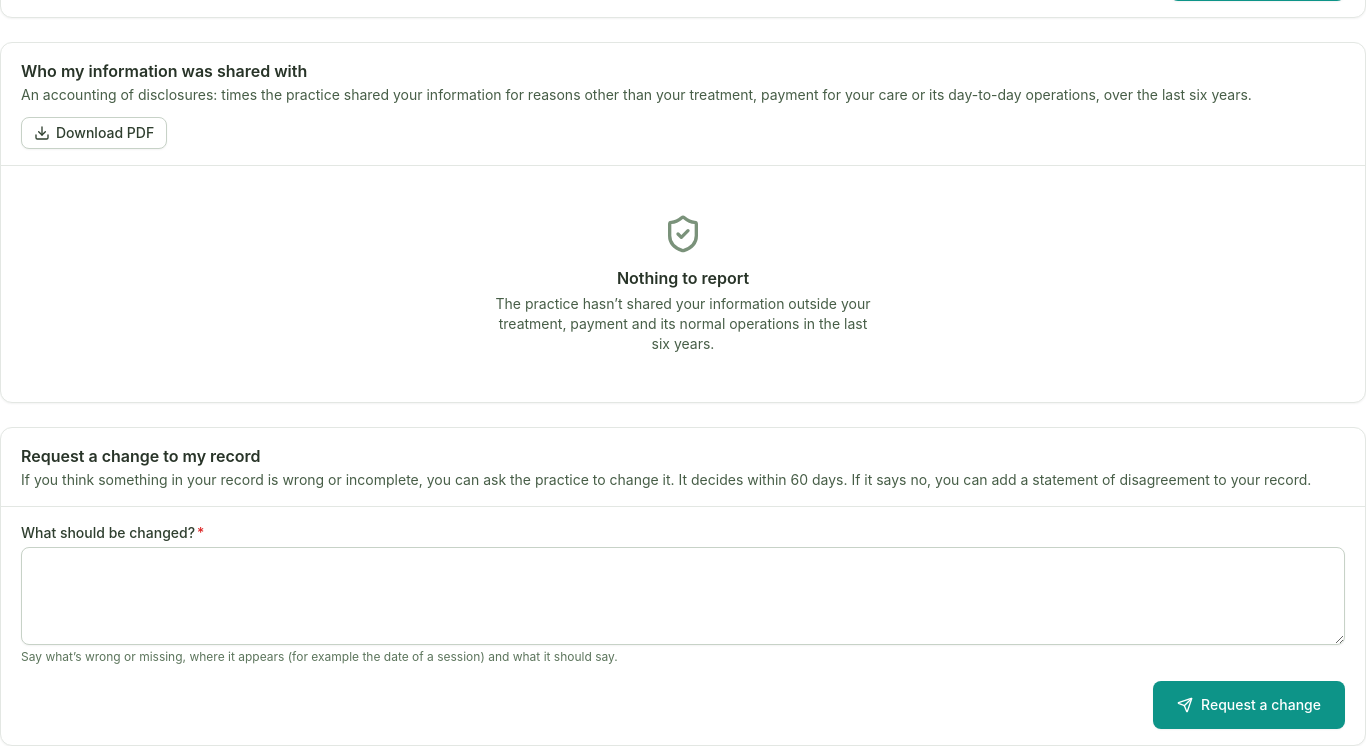
Test: ClientRecordsPage › amendments › sends a change request
(page scrolled)
Click the button "Request a change" at coordinates (1249, 705), box [1153,681,1345,729]
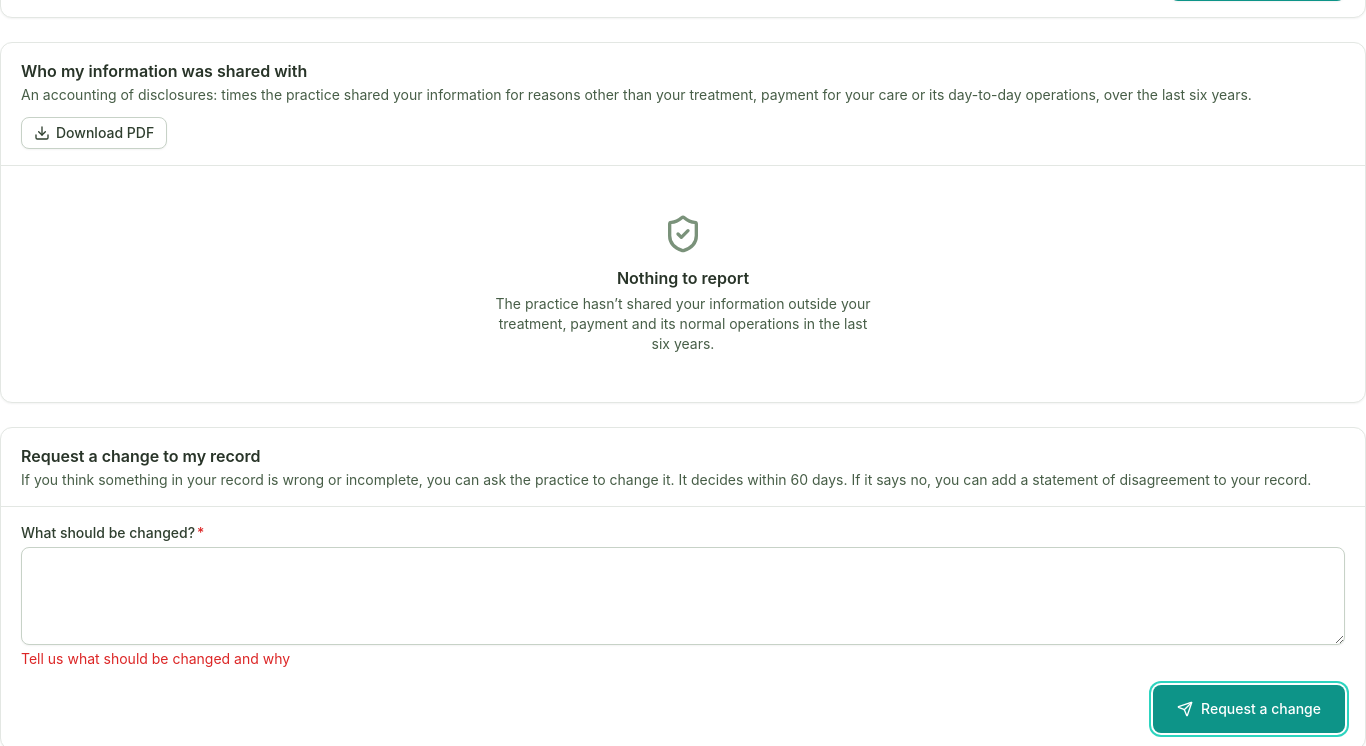
Check: the text "Tell us what should be changed and why" is shown, box [21,650,290,667]
Type "My birth date is wrong" into the text box labelled "What should be changed?*" at coordinates (683, 596), box [21,547,1345,645]
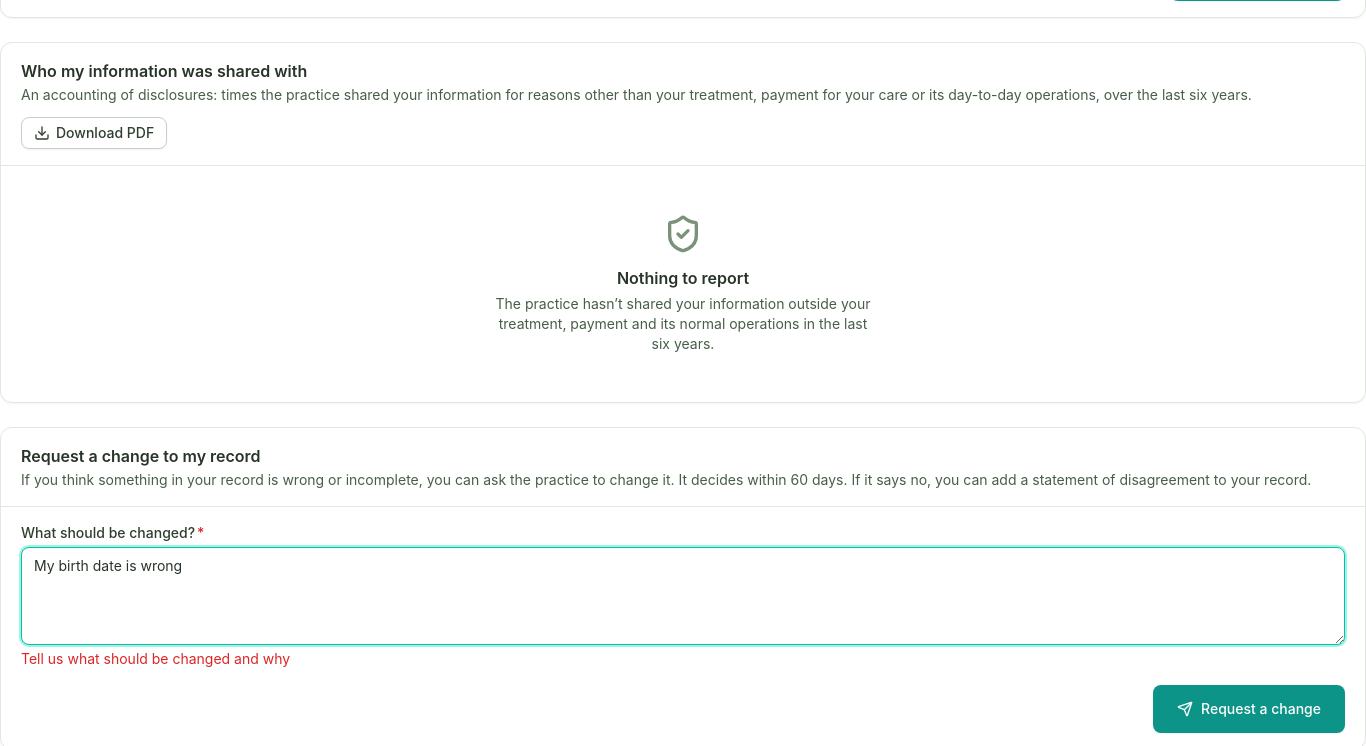
Click the button "Request a change" at coordinates (1249, 709), box [1153,685,1345,733]
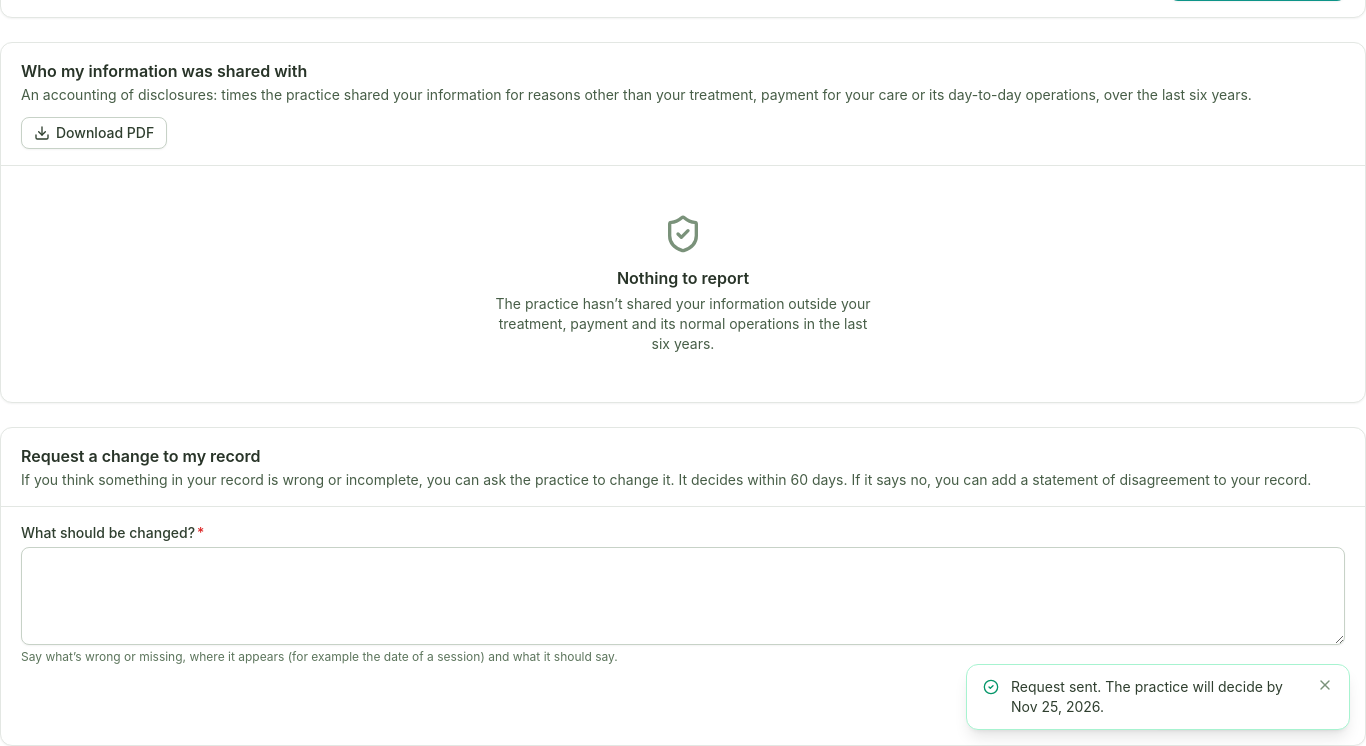
Check: the text "Request sent. The practice will decide by Nov 25, 2026." is shown, box [1011,677,1305,717]
